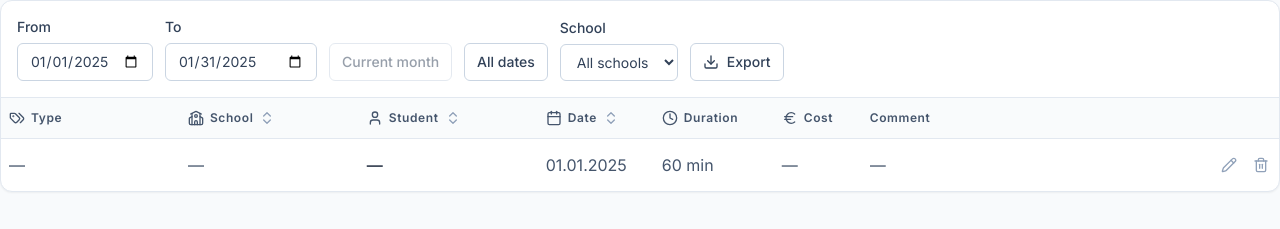
Test: LessonTable › does not allow From to be set after To
Type "2025-03-01" into the date field named "lesson filter start date".
click(85, 62); type("2025-03-01")  # box [17,43,153,81]
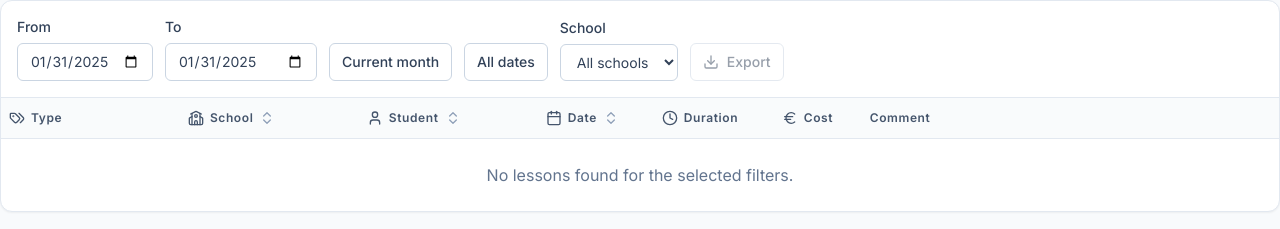
Expected: the date field named "lesson filter start date" holds "2025-01-31", [17,43,153,81]
